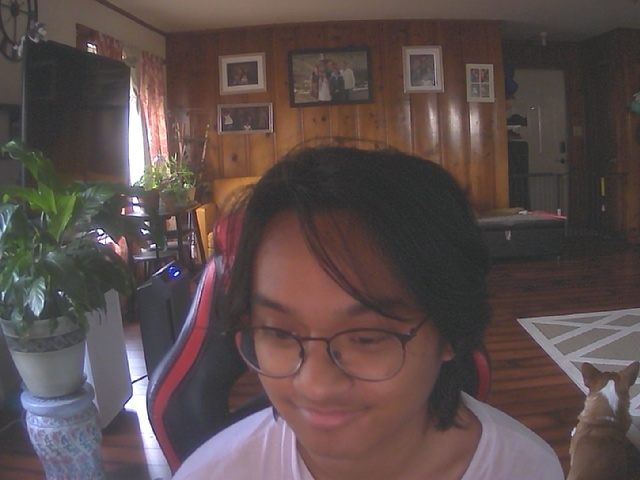happy: (221, 162, 466, 460)
